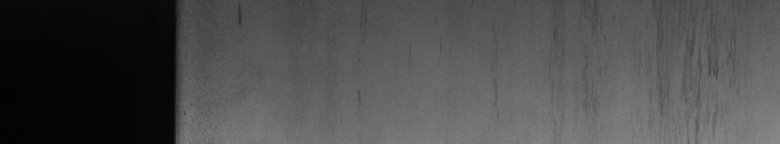ka: (690, 41, 719, 133)
